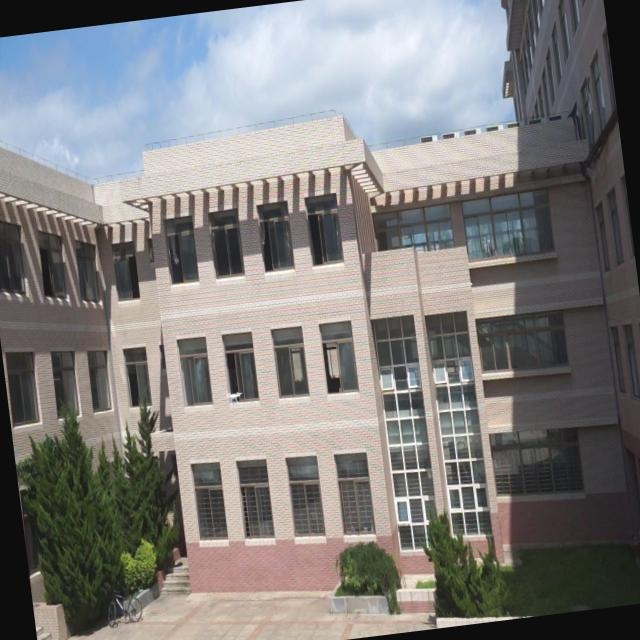drone: (222, 384, 246, 409)
